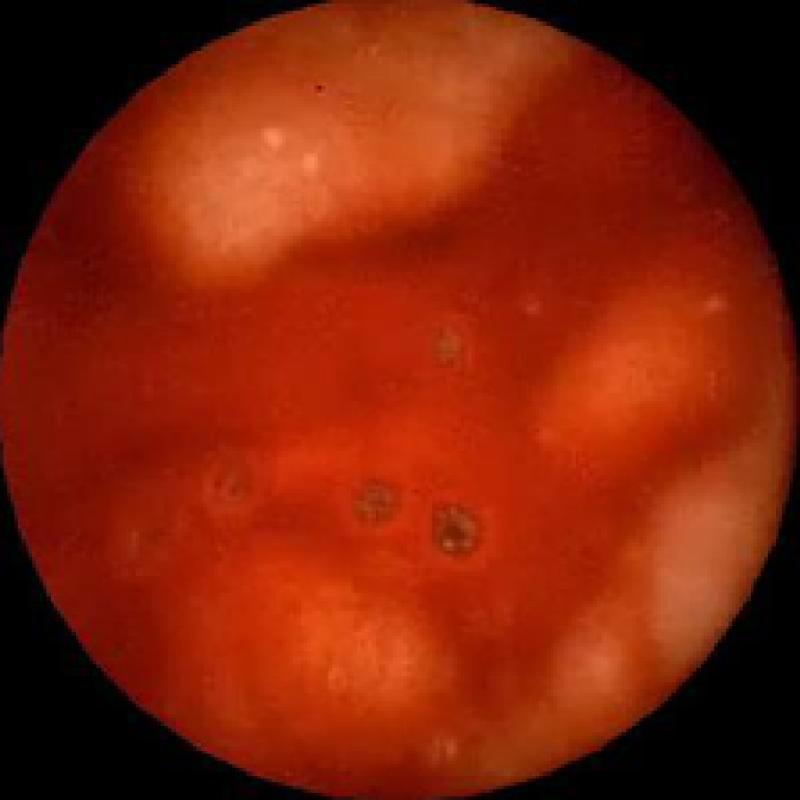bleeding: (118, 32, 657, 754)
